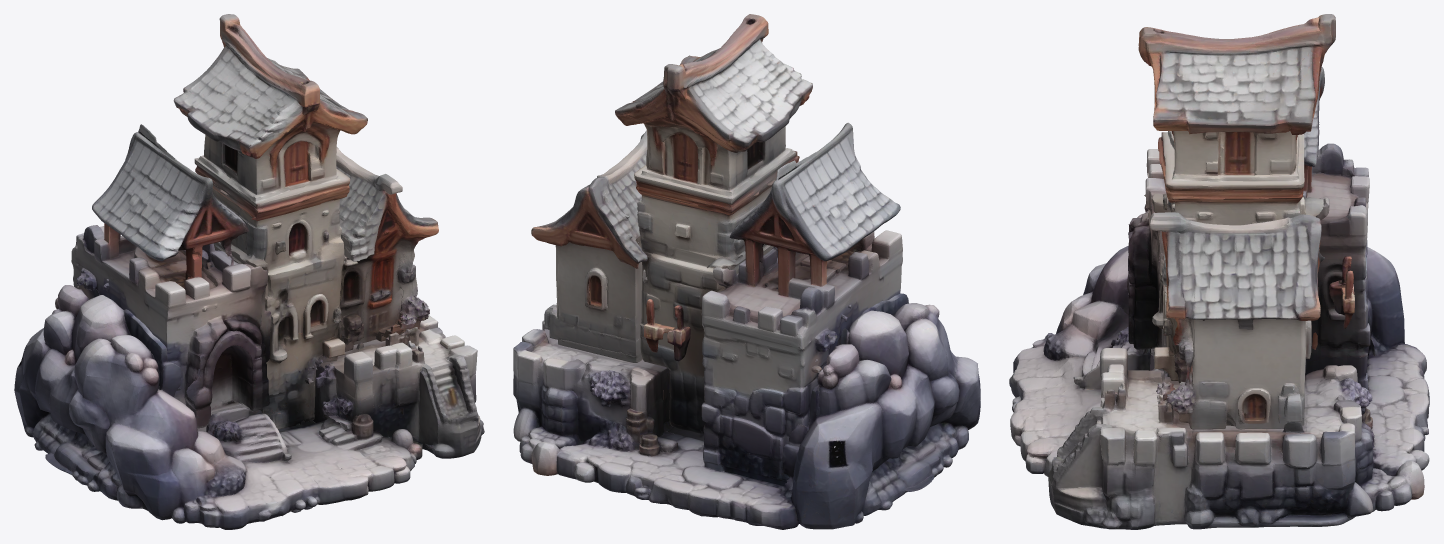
3 renders of one model, left to right at view 1: azimuth 30°, elevation 25°; view 2: azimuth 150°, elevation 25°; view 3: azimuth 270°, elevation 25°, orthographic. The views are drawn at different scales.
Visible parts, largest first — view 1: 0, 3, 1, 4; view 2: 0, 1, 3, 4; view 3: 0, 3, 4, 1.
Boxes of the visible parts, bbox=[...] form: 0: bbox=[14, 285, 484, 529]; 3: bbox=[173, 14, 367, 429]; 1: bbox=[71, 124, 270, 431]; 4: bbox=[336, 147, 438, 351]; 0: bbox=[513, 293, 980, 529]; 1: bbox=[667, 122, 902, 485]; 3: bbox=[615, 14, 812, 434]; 4: bbox=[531, 130, 647, 362]; 0: bbox=[1009, 204, 1429, 529]; 3: bbox=[1138, 14, 1354, 380]; 4: bbox=[1149, 212, 1324, 429]; 1: bbox=[1127, 67, 1370, 389].
Bounding box in the file's own units: 0.9691 × 0.9711 × 0.8417.
Materials: 5 (5 with a texture image).
